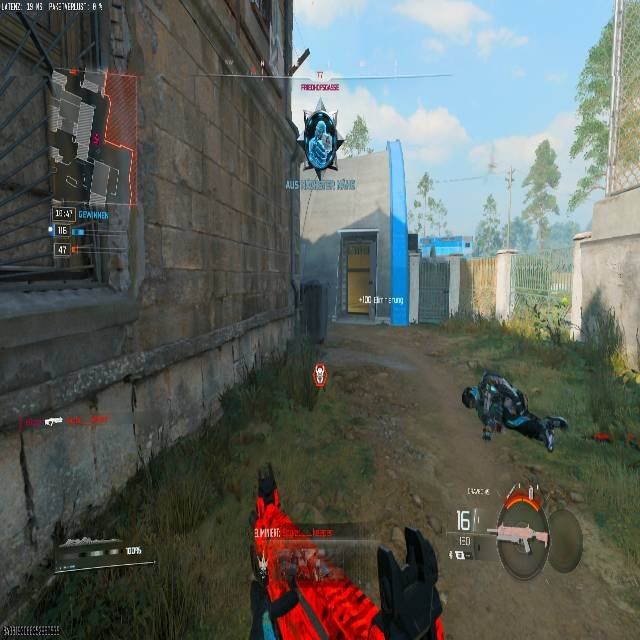head: (461, 385, 480, 409), (313, 98, 328, 112)
player: (302, 100, 340, 179)
